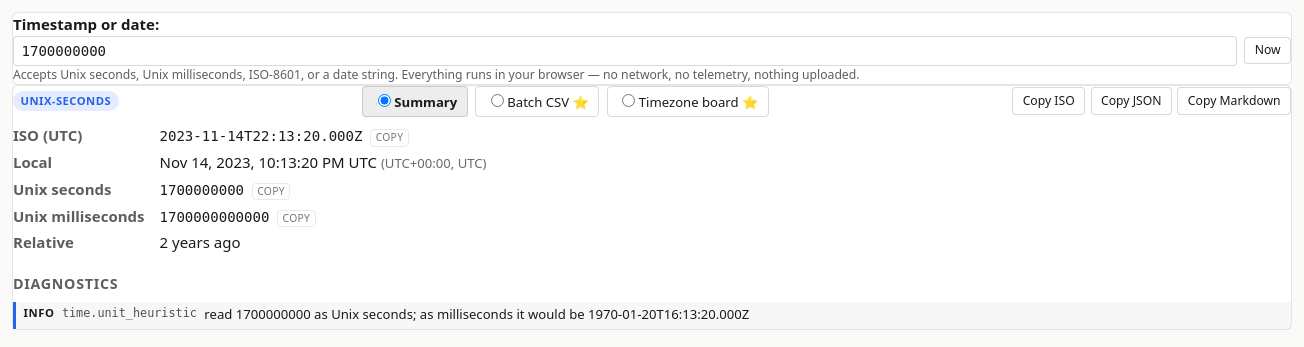
Test: TimeApp › the "Now" button replaces the input with the current Unix milliseconds
Click the button with test id "time-now" at (1268, 50), box x1=1244 y1=37 x2=1291 y2=64
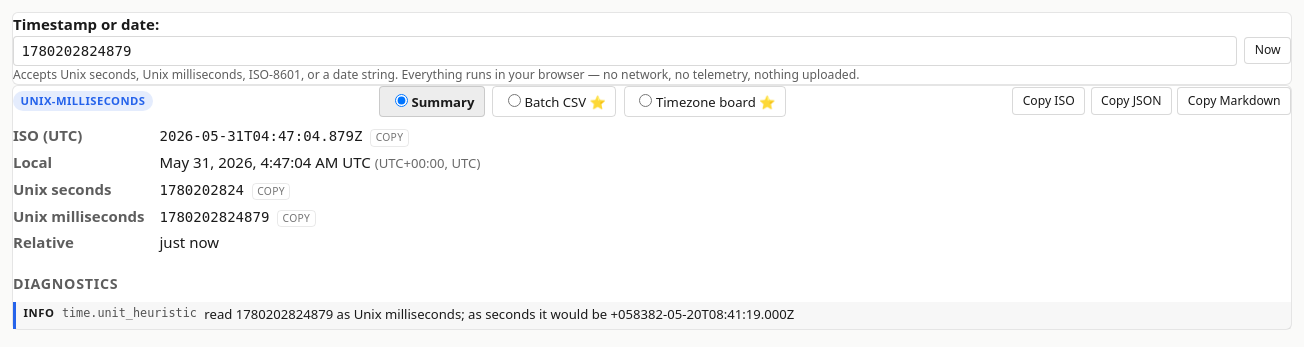
Expected: the text with test id "time-interpretation" reads "unix-milliseconds", x1=20 y1=93 x2=146 y2=108
